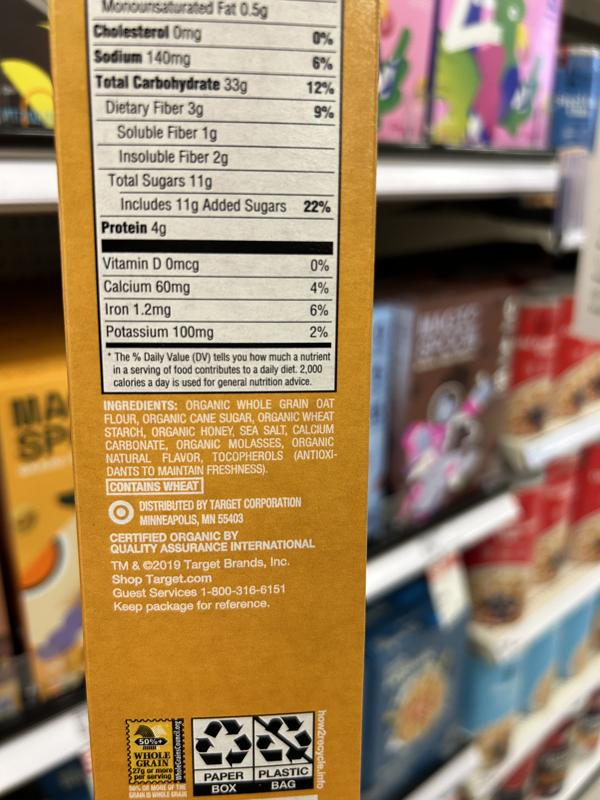ingredients: (100, 397, 338, 477)
